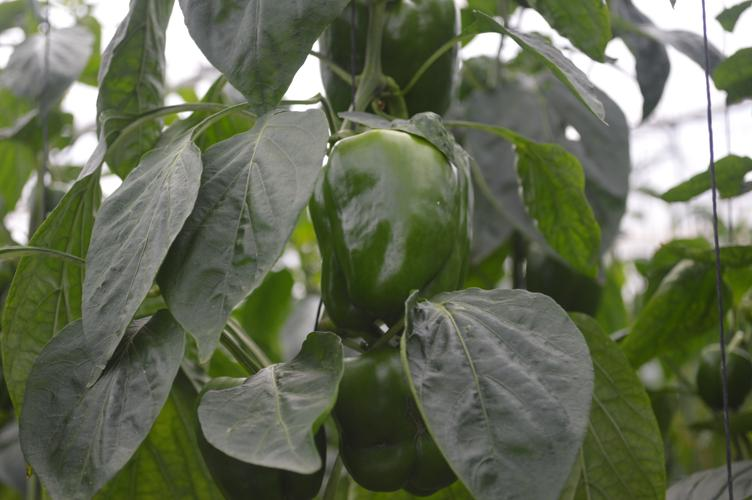BellPepper: (307, 128, 460, 326), (329, 347, 456, 491)
